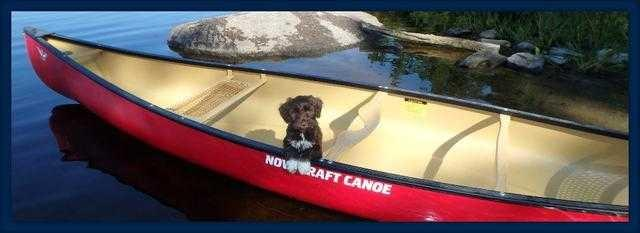kayak: (13, 7, 640, 220)
